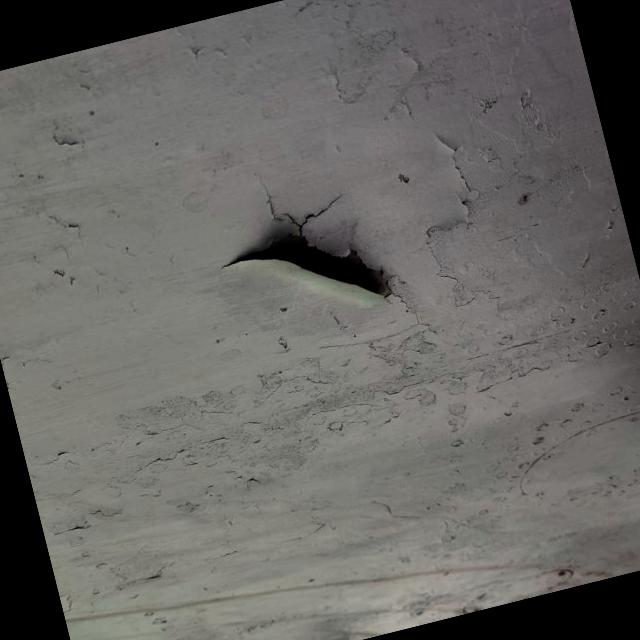paint-off: (202, 178, 422, 362)
